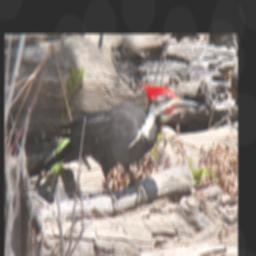Woodpecker: (28, 82, 202, 211)
